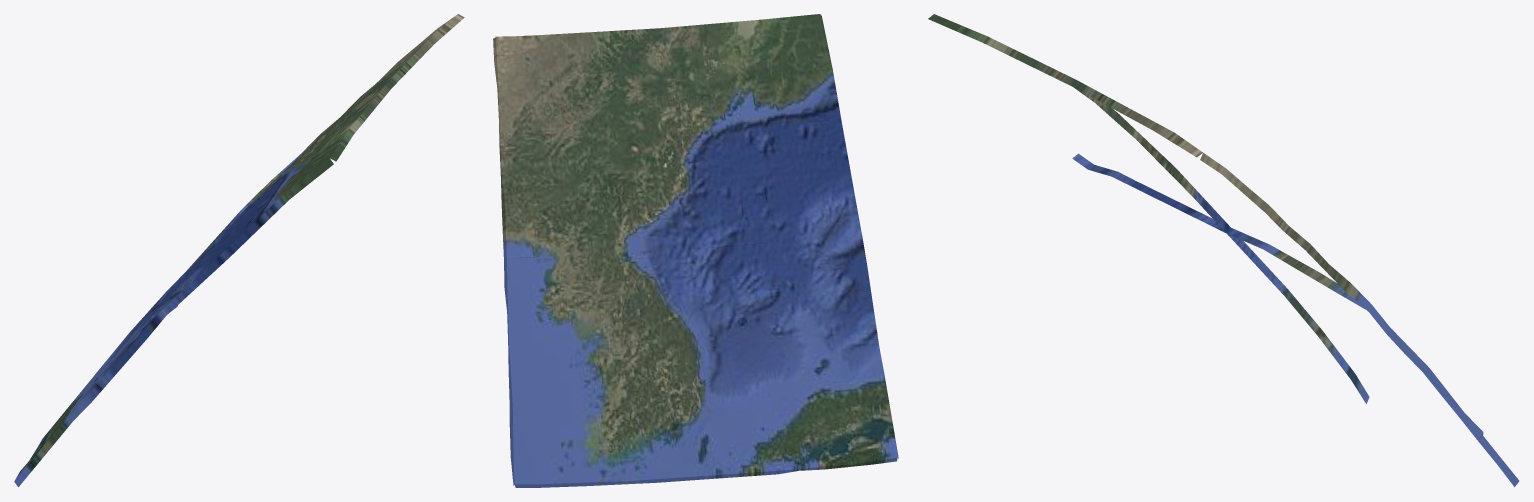
The picture shows the model from 3 angles, left to right: view 1: azimuth 30°, elevation 25°; view 2: azimuth 150°, elevation 25°; view 3: azimuth 270°, elevation 25°; orthographic projection. The views are drawn at different scales.
Bounding box in the file's own units: 1263139 × 983801 × 1239490.
Materials: 1 (1 with a texture image).
